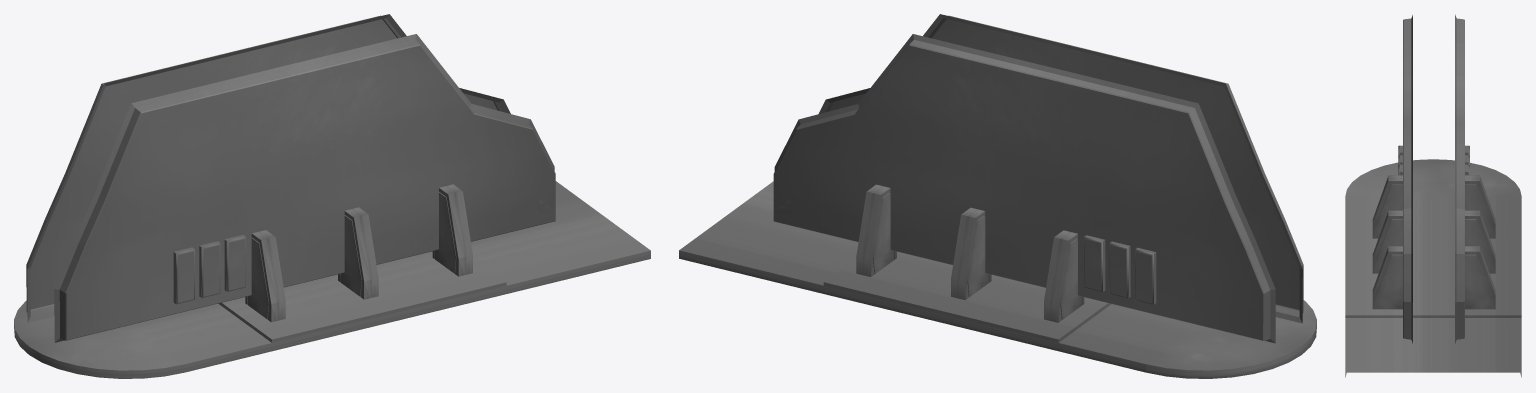
Rendered from joinalasuperior.fbx.
The picture shows the model from 3 angles, left to right: view 1: azimuth 30°, elevation 25°; view 2: azimuth 150°, elevation 25°; view 3: azimuth 270°, elevation 25°; orthographic projection. The views are drawn at different scales.
Visible parts, largest first — view 1: joinalasuperior; view 2: joinalasuperior; view 3: joinalasuperior.
Boxes of the visible parts, box(x1,y1,x2,y2) form: joinalasuperior: box(14, 14, 650, 378); joinalasuperior: box(679, 14, 1316, 378); joinalasuperior: box(1345, 14, 1521, 377).
Bounding box in the file's own units: 36.78 × 14.91 × 12.86.
